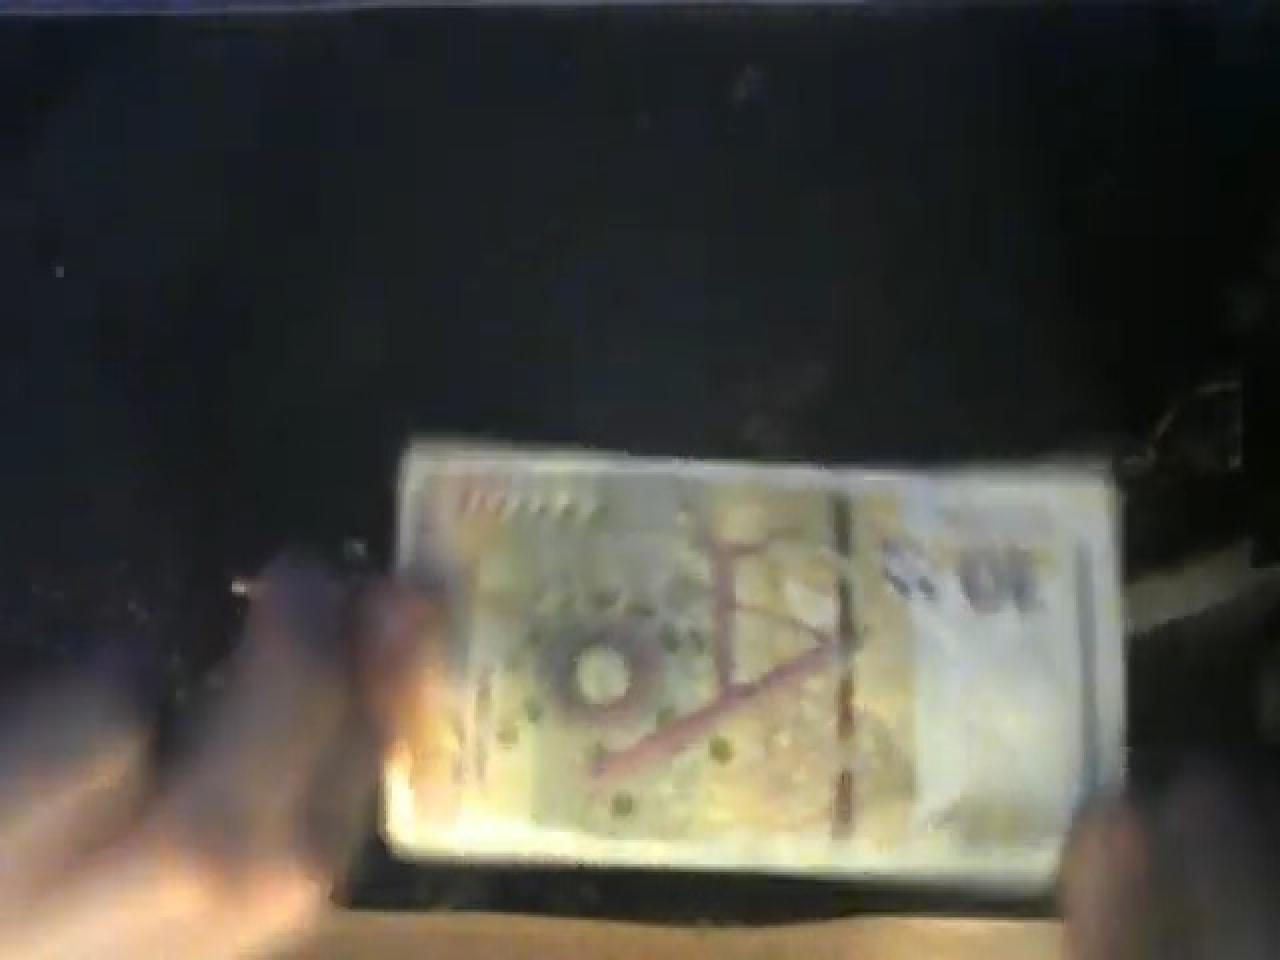10leva: (368, 430, 1120, 890)
